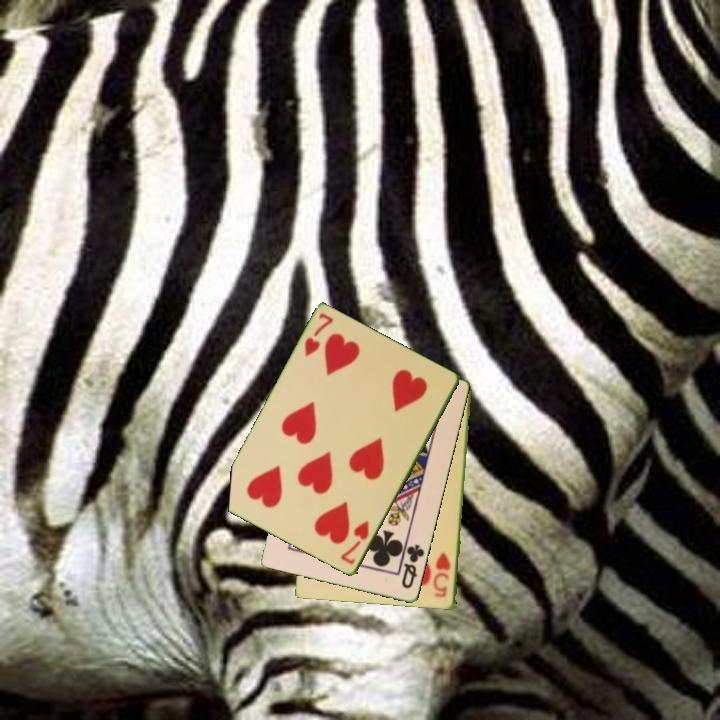5h: (431, 549, 454, 601)
7h: (337, 517, 372, 568), (301, 310, 336, 360)
Qc: (398, 541, 428, 592)
